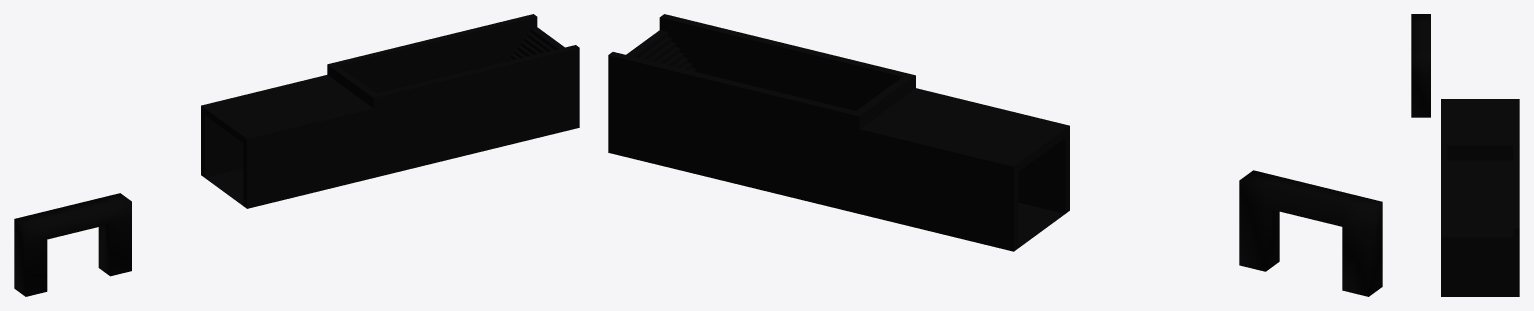
Rendered from cartelricoyescalinata.glb.
The picture shows the model from 3 angles, left to right: view 1: azimuth 30°, elevation 25°; view 2: azimuth 150°, elevation 25°; view 3: azimuth 270°, elevation 25°; orthographic projection. The views are drawn at different scales.
Visible parts, largest first — view 1: Plane.002, Plane.001; view 2: Plane.002, Plane.001; view 3: Plane.002, Plane.001.
Boxes of the visible parts, left/top/right/bottom form: Plane.002: left=201, top=14, right=579, bottom=208; Plane.001: left=14, top=193, right=131, bottom=296; Plane.002: left=608, top=14, right=1069, bottom=251; Plane.001: left=1239, top=170, right=1382, bottom=296; Plane.002: left=1441, top=99, right=1519, bottom=296; Plane.001: left=1411, top=14, right=1430, bottom=117.
Size of the model in its own units: 85.91 by 13.93 by 16.57.
Materials: 1 (1 with a texture image).
